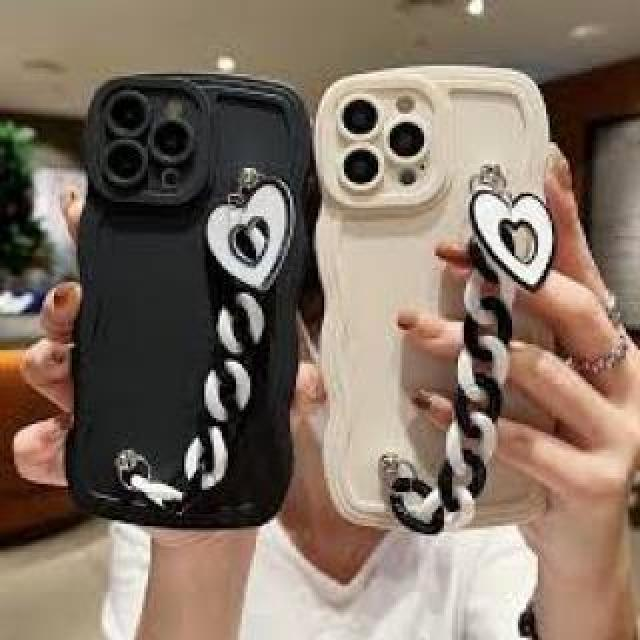smart phone: (59, 31, 308, 562), (320, 55, 578, 558)
